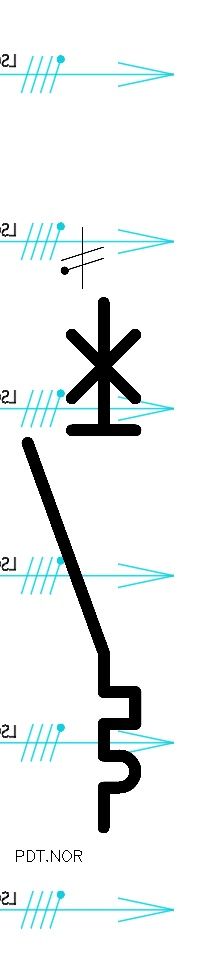interruptor_termomagnetico: (14, 289, 149, 840)
